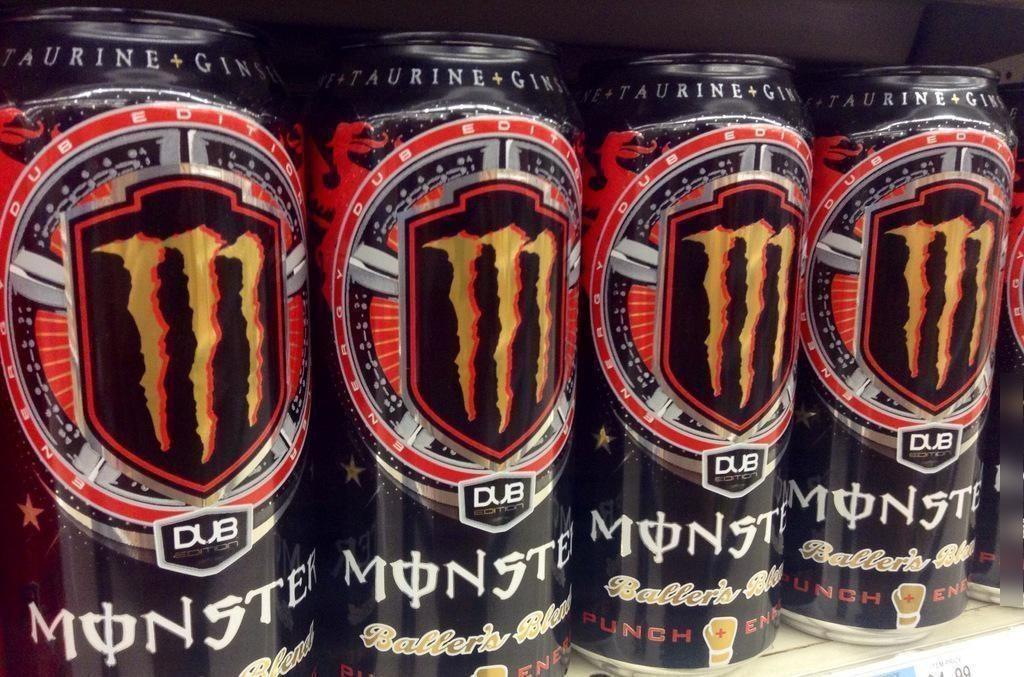tin can: (1, 1, 318, 676), (313, 21, 590, 676), (576, 38, 815, 668), (789, 60, 1023, 642)
